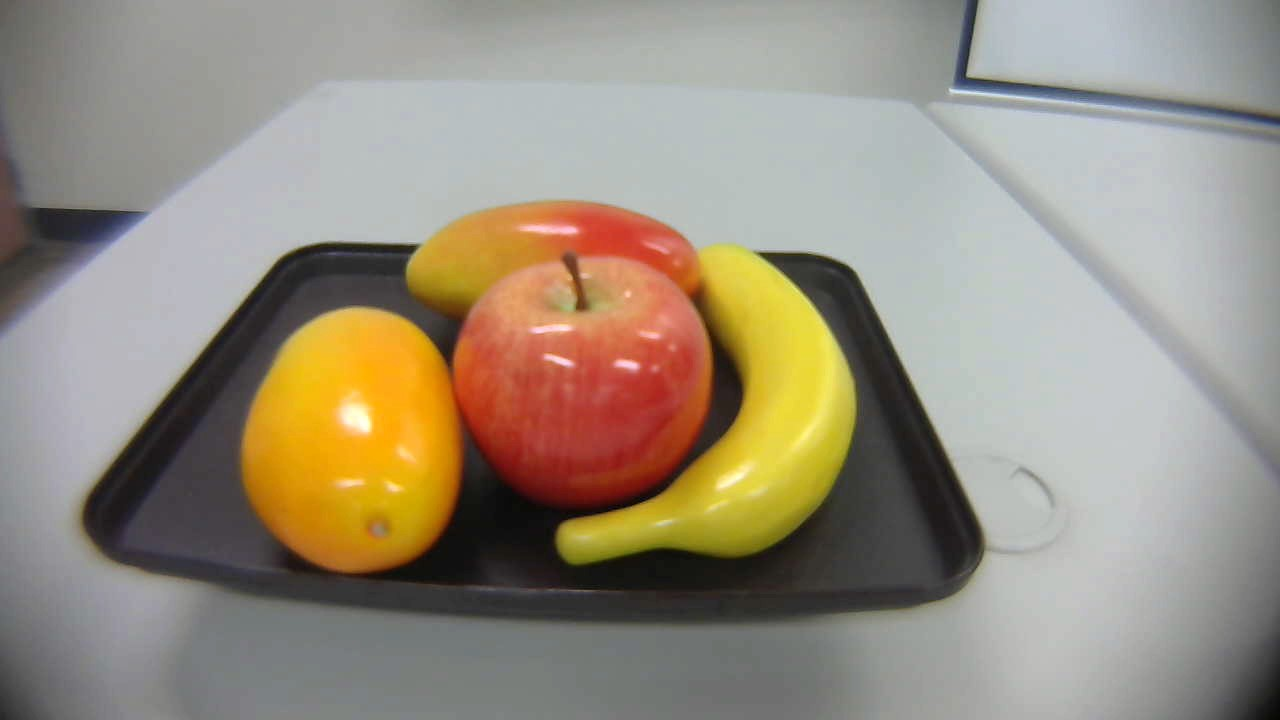banana: (553, 243, 863, 563)
red apple: (453, 248, 715, 516)
red mango: (397, 188, 712, 346)
yellow mango: (238, 301, 477, 569)
